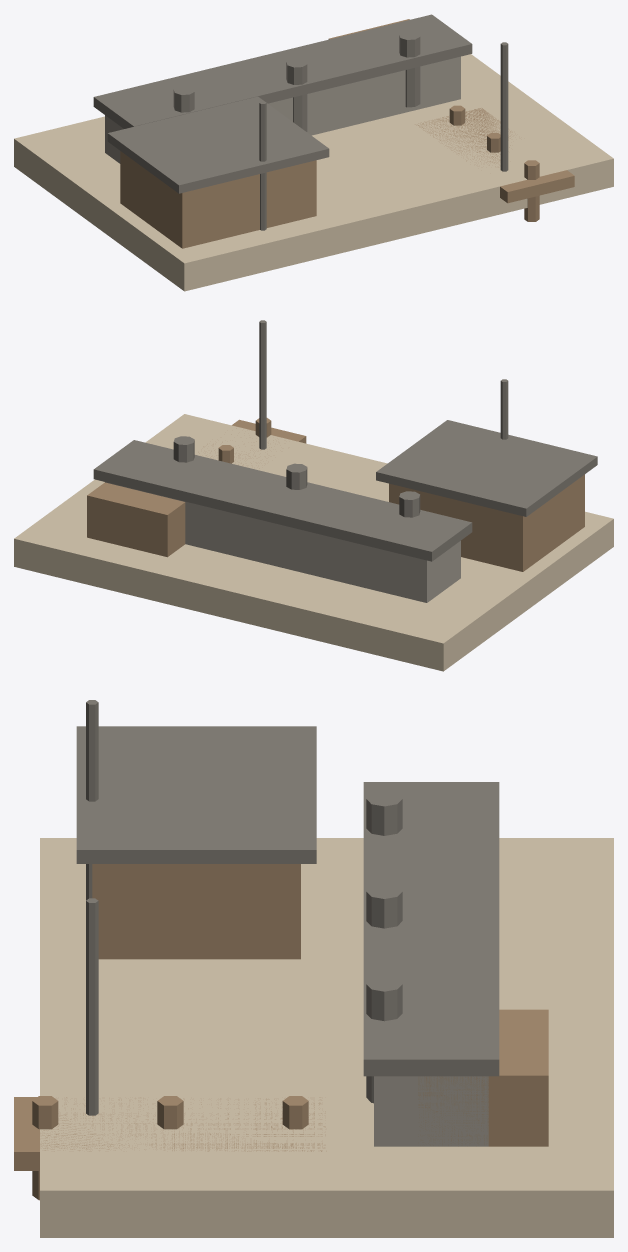
File: arica_battery_lod0.glb
3 views of the same model, one above another, from view 1: azimuth 30°, elevation 25°; view 2: azimuth 150°, elevation 25°; view 3: azimuth 270°, elevation 25° (orthographic). The views are drawn at different scales.
Parts seen in each view (by area): view 1: arica_battery; view 2: arica_battery; view 3: arica_battery.
Boxes of the visible parts, box(x1,y1,x2,y2) form: arica_battery: box(14, 14, 613, 291); arica_battery: box(14, 320, 613, 671); arica_battery: box(14, 700, 613, 1237).
Size of the model in its own units: 16 by 6 by 11.5.
